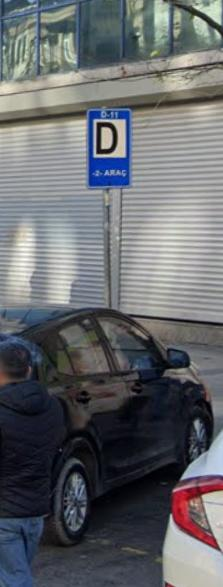station: (90, 110, 134, 168)
